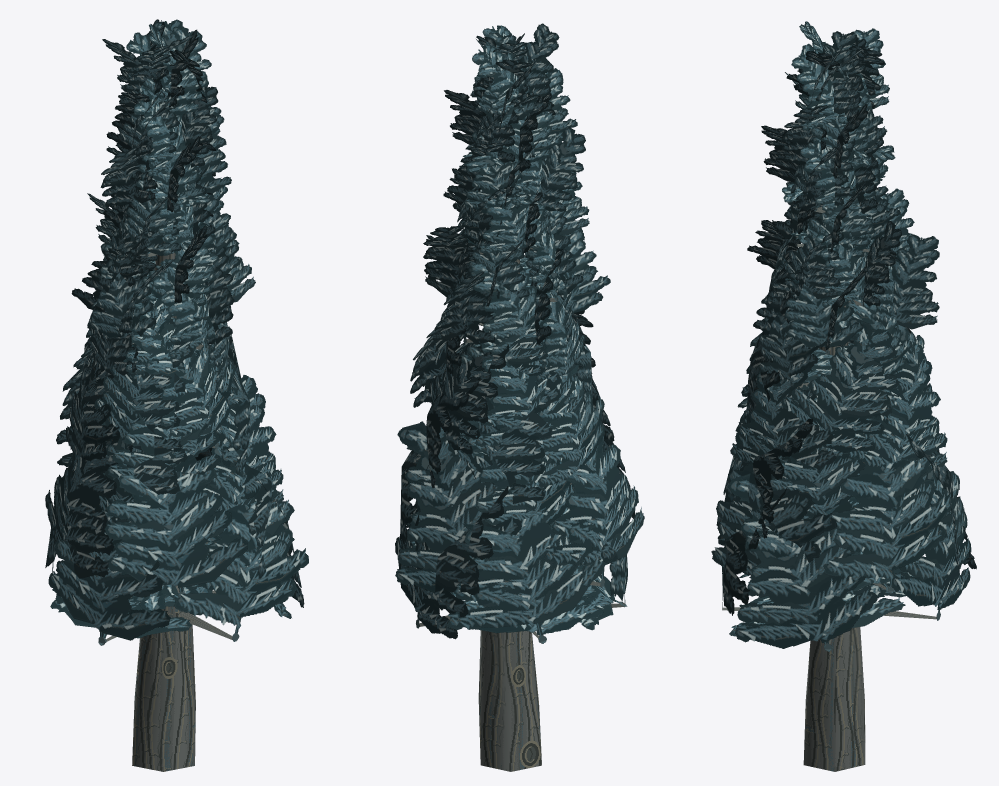
Rendered from snow-fir-near.glb.
3 renders of one model, left to right at view 1: azimuth 30°, elevation 25°; view 2: azimuth 150°, elevation 25°; view 3: azimuth 270°, elevation 25°, orthographic.
Parts seen in each view (by area): view 1: Snow fir near v3 runtime; view 2: Snow fir near v3 runtime; view 3: Snow fir near v3 runtime.
Part boxes in pixels (x1,y1,x2,y2): Snow fir near v3 runtime: (45,19,308,771); Snow fir near v3 runtime: (395,23,644,771); Snow fir near v3 runtime: (711,21,976,771).
Bounding box in the file's own units: 4.09 × 11.24 × 4.24.
1 material, 1 textured.
